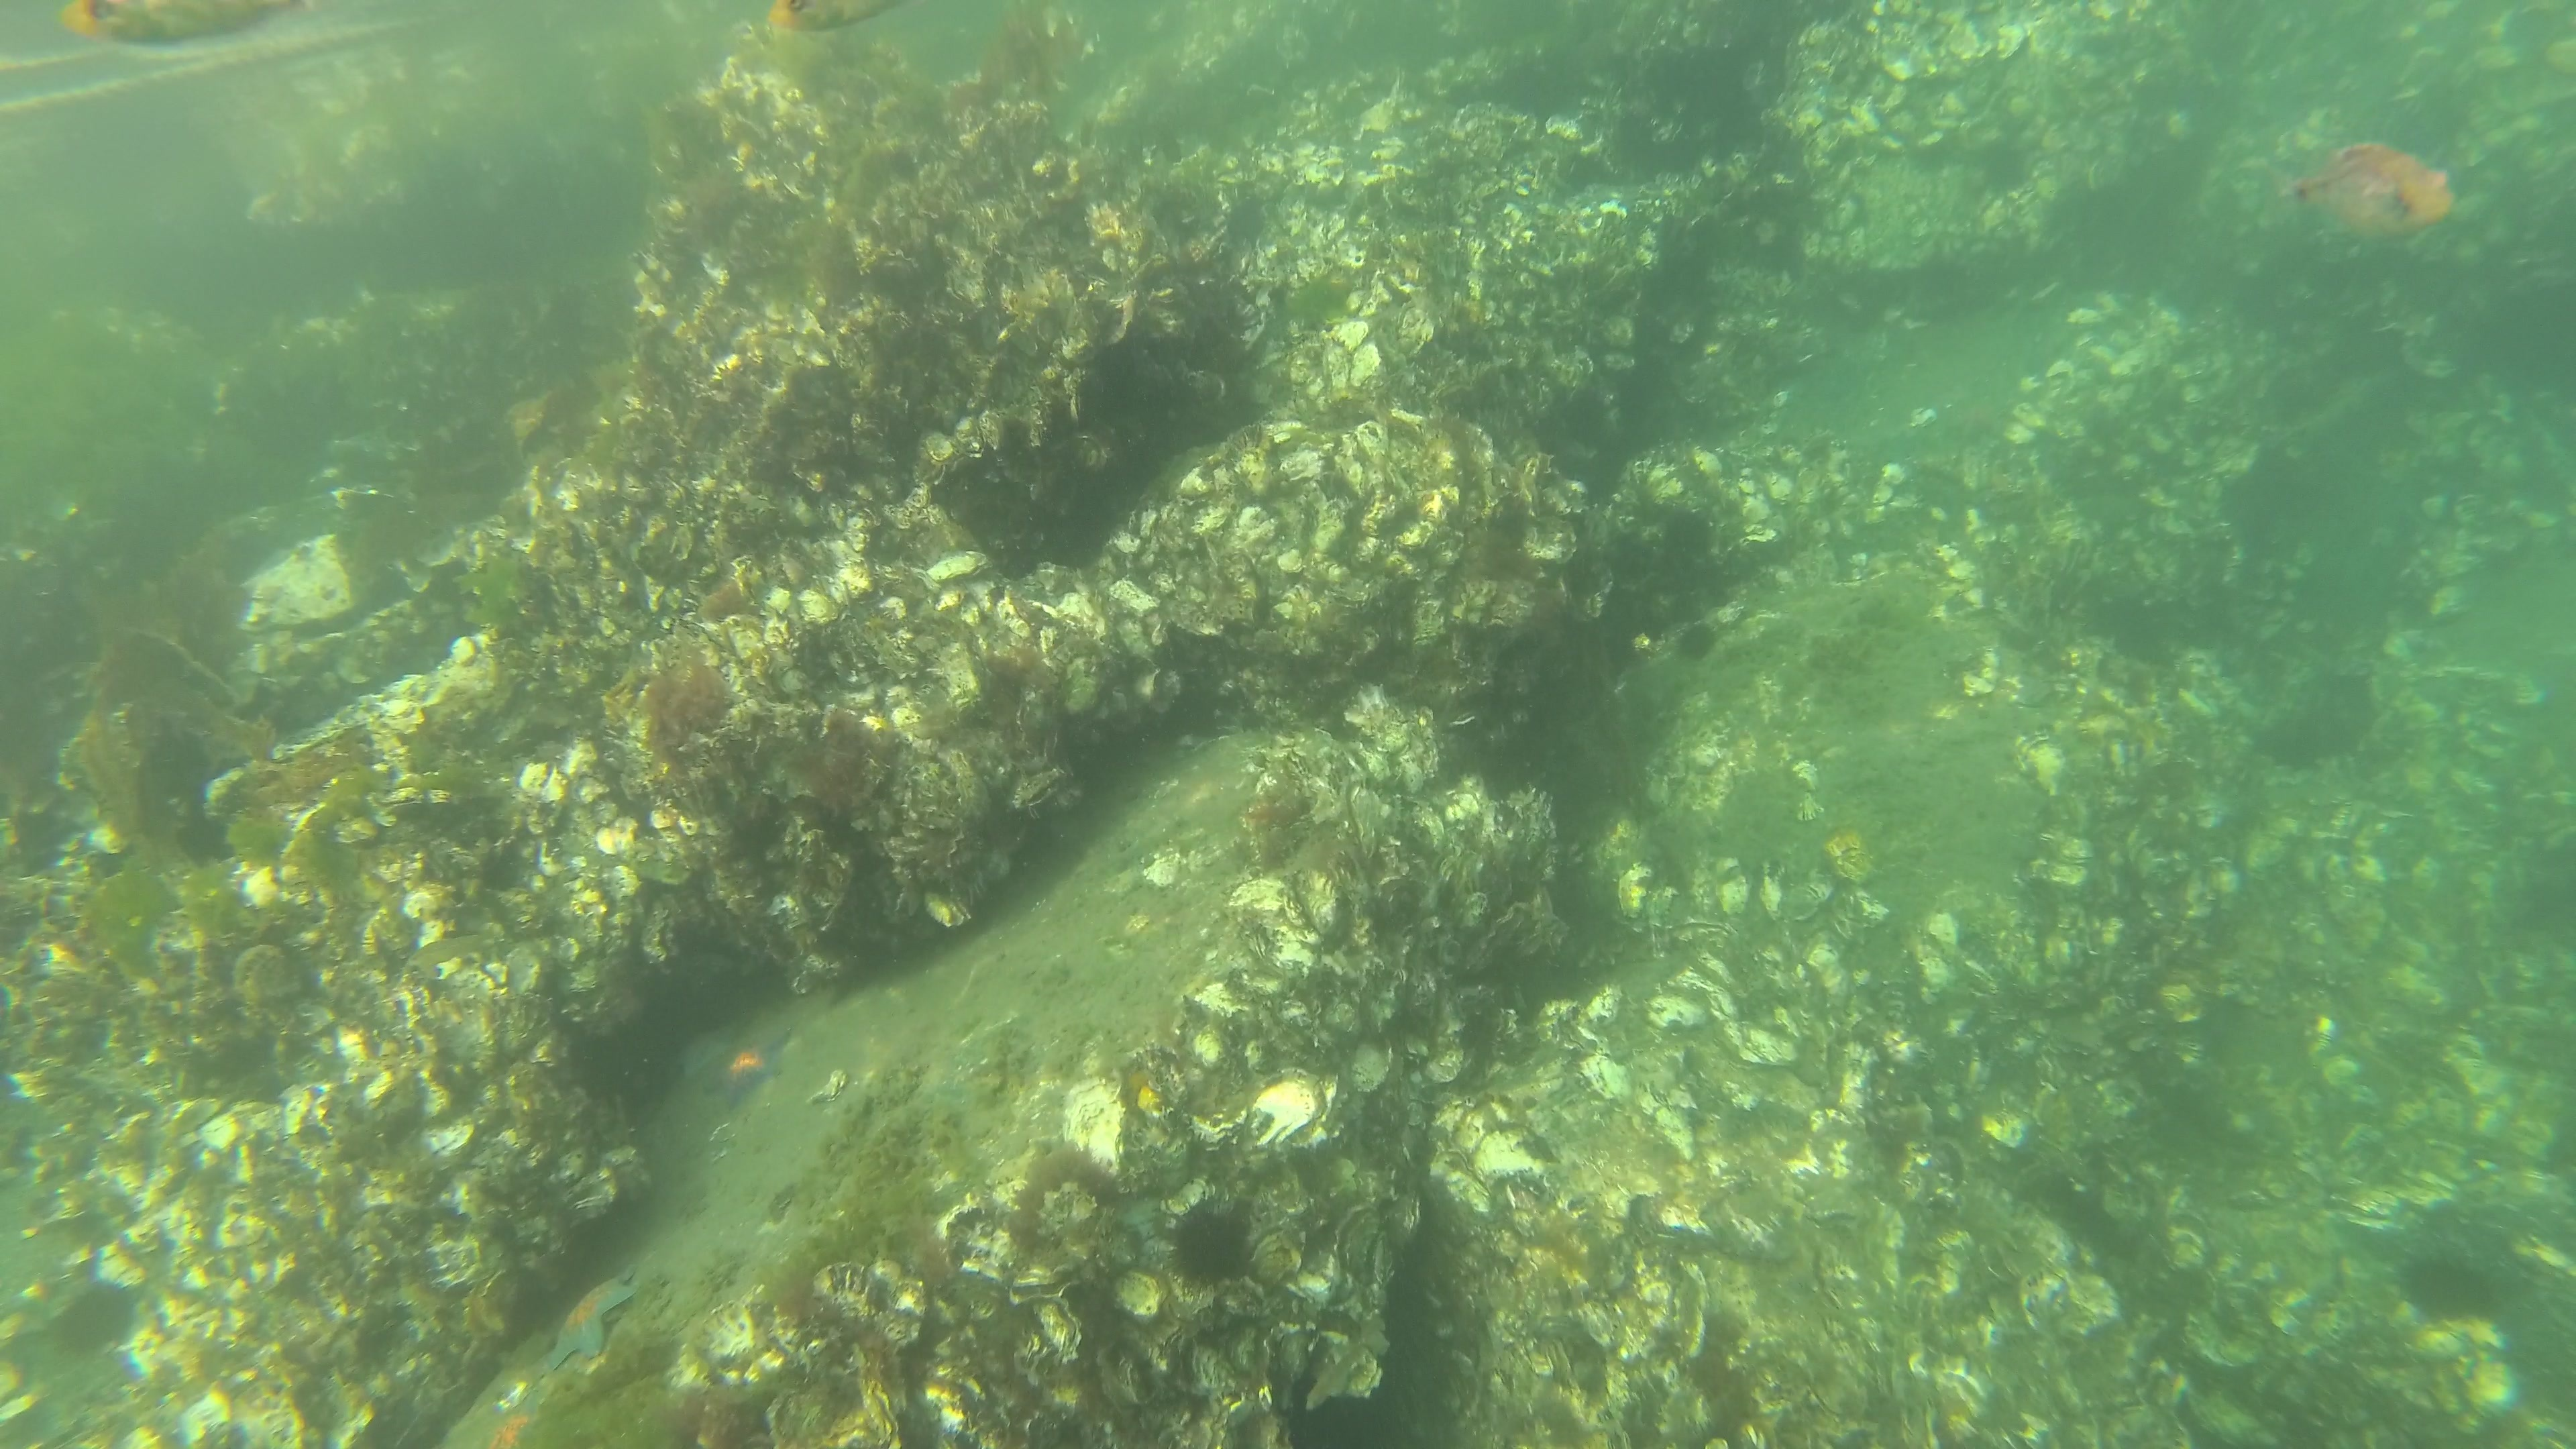echinus: (1161, 1192, 1254, 1297), (2404, 1258, 2496, 1329), (1663, 511, 1716, 568), (1677, 626, 1713, 660)
starfish: (545, 1265, 646, 1369), (699, 1033, 793, 1109)
